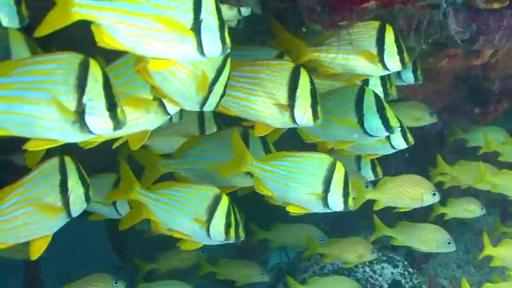Fish: (0, 52, 126, 150), (108, 160, 244, 249), (34, 0, 230, 61), (80, 54, 180, 150), (224, 142, 353, 215), (0, 156, 91, 259), (270, 18, 410, 81), (217, 60, 320, 135), (132, 128, 244, 186), (298, 85, 402, 145), (136, 54, 230, 111), (145, 111, 220, 154), (319, 126, 414, 159), (355, 174, 439, 211), (371, 216, 455, 252), (429, 155, 498, 190), (304, 237, 377, 267), (134, 248, 203, 279), (86, 173, 130, 220), (250, 224, 327, 249), (199, 259, 270, 286), (175, 170, 253, 192), (329, 151, 383, 180), (0, 27, 41, 60), (450, 125, 510, 147), (388, 101, 438, 127), (430, 197, 486, 219), (479, 232, 511, 268), (348, 170, 374, 208), (361, 75, 397, 101), (479, 134, 511, 162), (64, 273, 126, 287), (482, 169, 511, 198), (286, 276, 361, 287), (312, 73, 353, 93), (0, 0, 29, 28), (231, 46, 289, 60), (392, 60, 423, 85), (220, 4, 251, 27), (0, 243, 30, 260), (137, 280, 192, 287), (492, 220, 511, 237), (481, 281, 511, 287), (461, 278, 471, 287)
